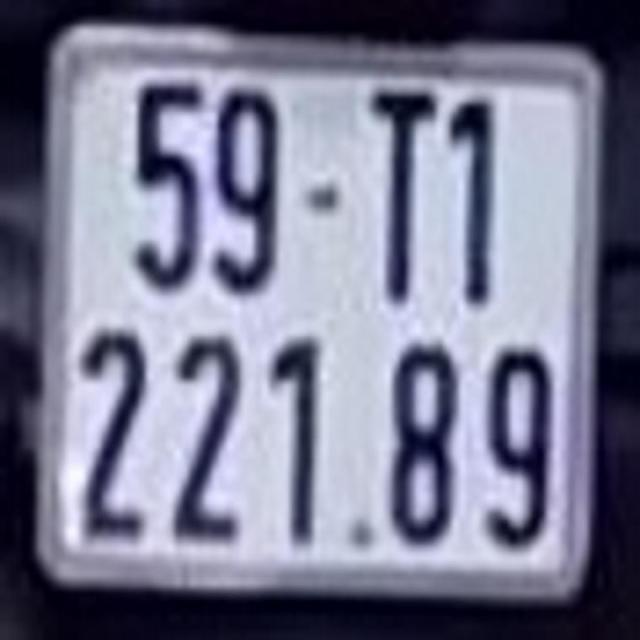1: (270, 338, 325, 544), (446, 94, 496, 300)
2: (78, 330, 144, 537), (175, 330, 238, 536)
5: (132, 83, 205, 288)
9: (482, 344, 548, 546), (215, 96, 282, 287)
T: (368, 86, 439, 300)
